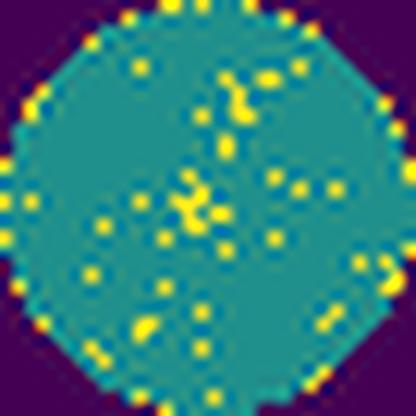Center: (166, 164, 214, 240)
